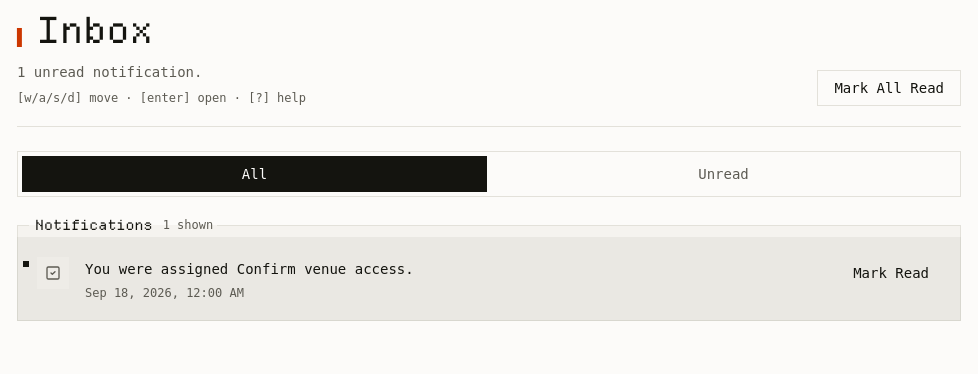
it: NotificationsPage › puts a row back to unread when marking it fails
The width and height of the screenshot is (978, 374).
Click the button "Mark Read".
click(891, 273)  # box [841,257,941,289]
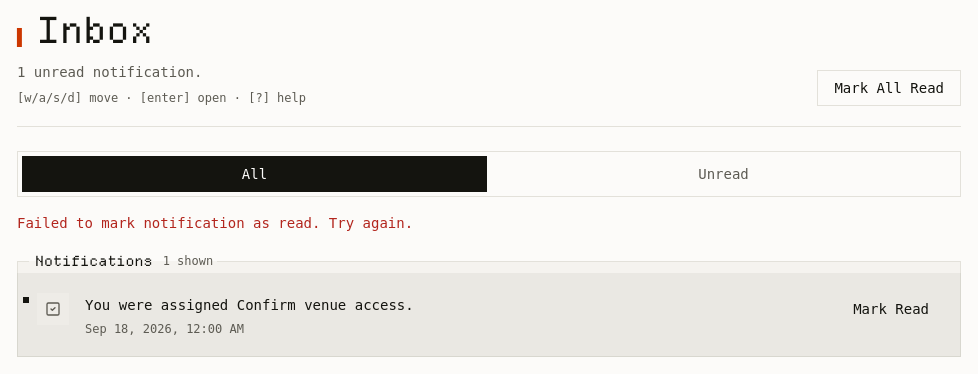
Expected: the text "1 unread notification." is shown, [17,64,202,80]
Result: the message shows "Failed to mark notification as read" at [17,215,312,231]
